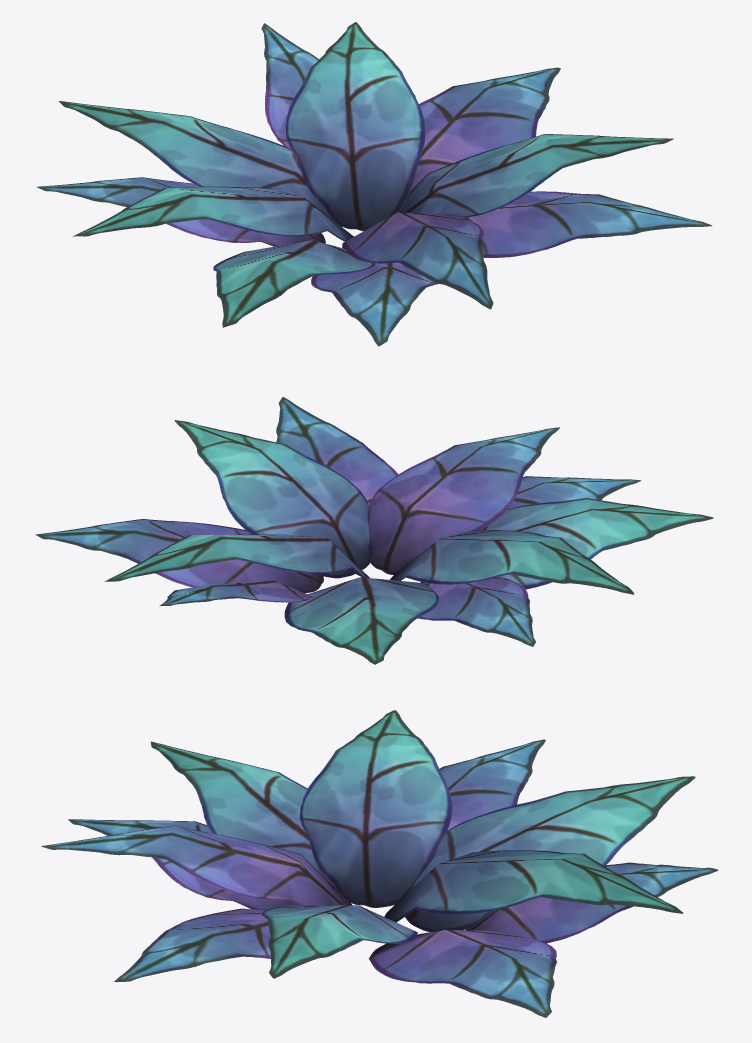
The model's file is bush4.fbx.
3 renders of one model, top to bottom at view 1: azimuth 30°, elevation 25°; view 2: azimuth 150°, elevation 25°; view 3: azimuth 270°, elevation 25°, orthographic. The views are drawn at different scales.
Visible parts, largest first — view 1: polySurface608; view 2: polySurface608; view 3: polySurface608.
Part boxes in pixels (x1,y1,x2,y2): polySurface608: (37, 22, 712, 346); polySurface608: (35, 397, 713, 664); polySurface608: (41, 710, 718, 1017).
Size of the model in its own units: 1.44 by 0.2292 by 1.44.
